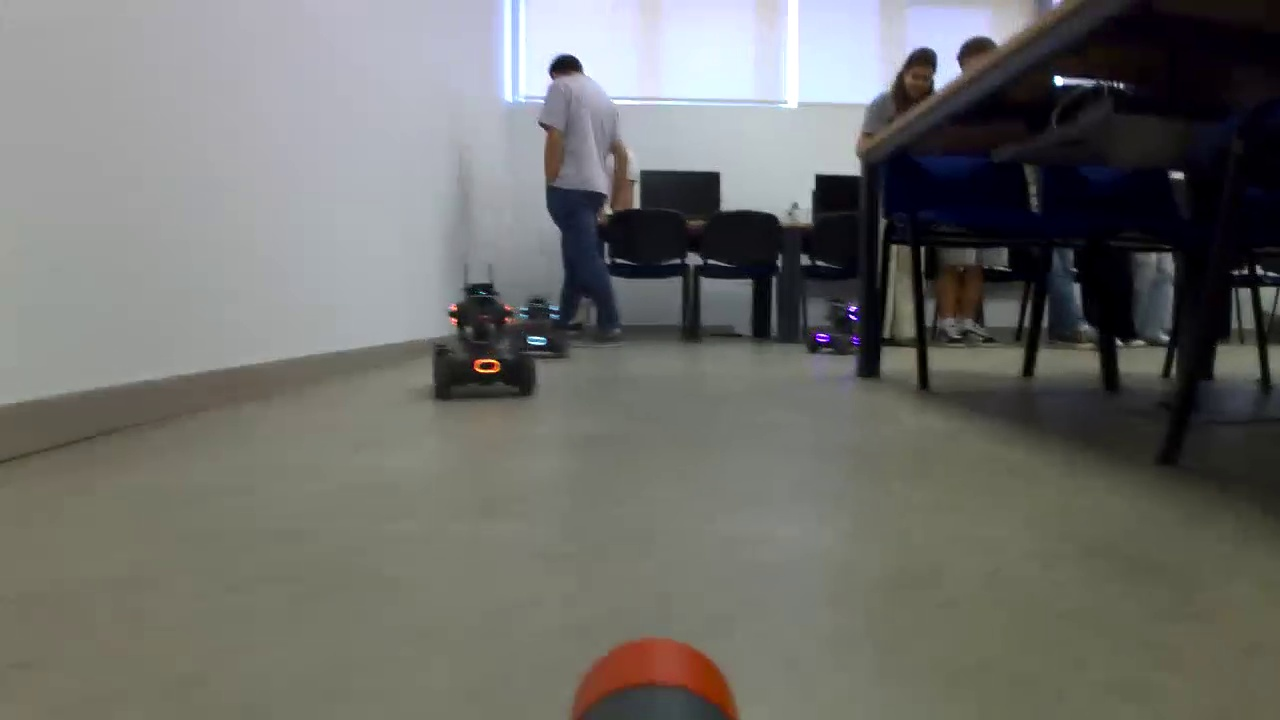robot: (443, 295, 528, 382), (520, 287, 568, 350), (813, 295, 863, 350)
